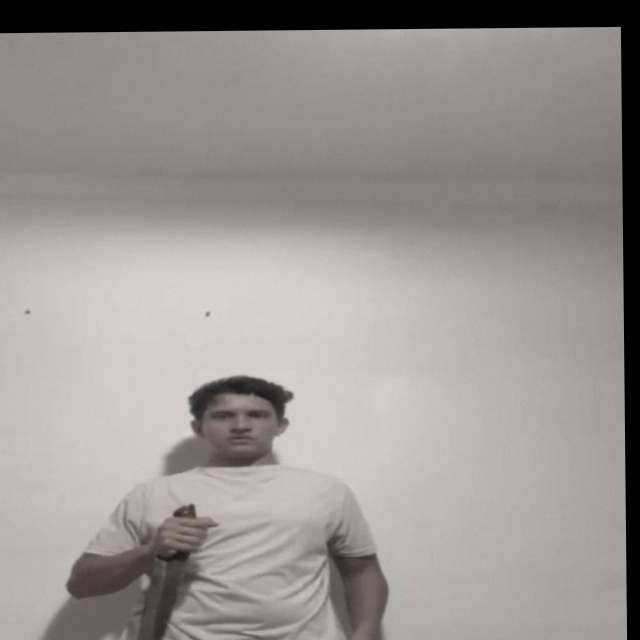Sharp-Object: (137, 557, 189, 640)
